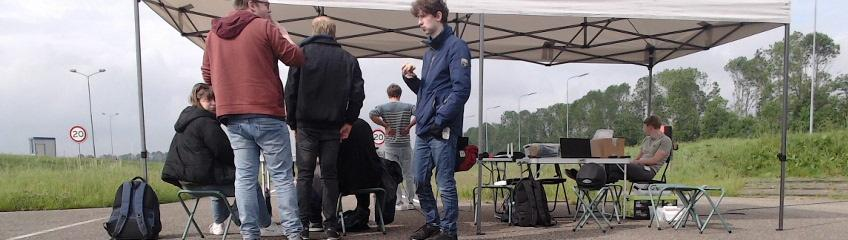Speed-limit-20km-h-: (70, 126, 86, 142), (373, 129, 385, 145)
